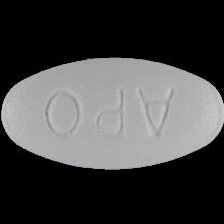70786-2578: (0, 0, 224, 224)
